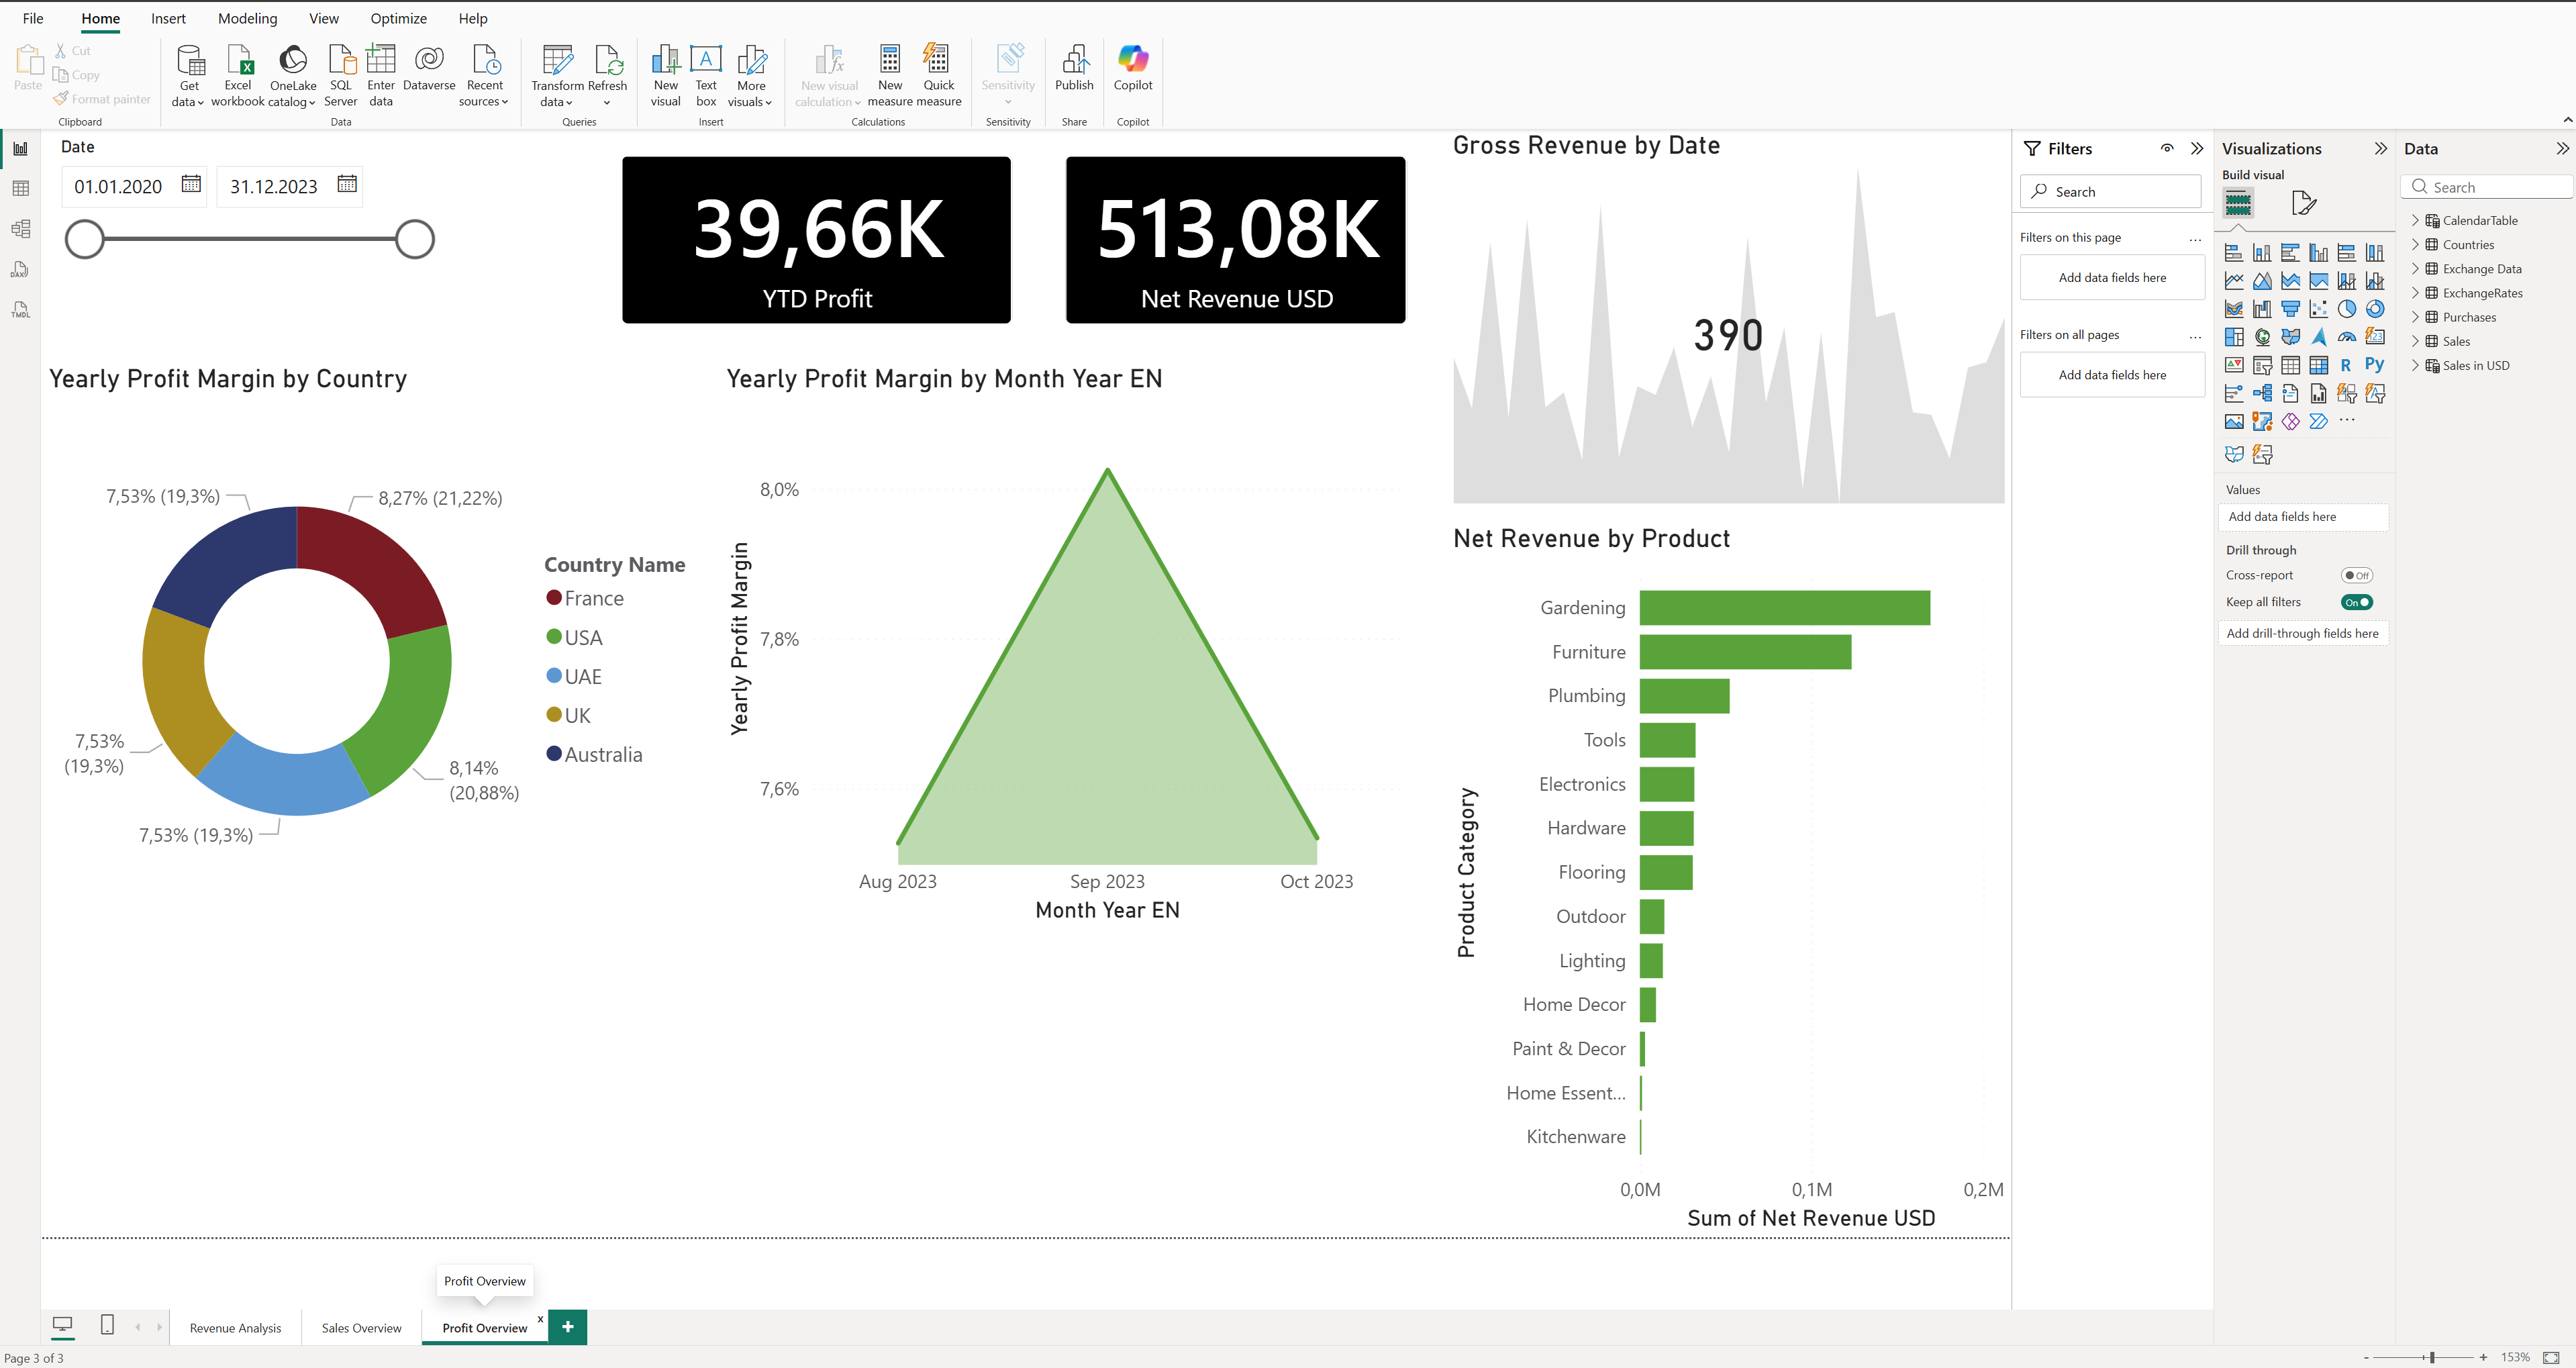

The page's visual inventory and layout, read from the dashboard file:
{"tool":"powerbi","page":{"name":"Profit Overview","canvas":[1280,720],"ordinal":3},"visuals":[{"type":"clusteredBarChart","title":"Net Revenue by Product","fields":{"Y":["Sum(Sales in USD.Net Revenue USD)"],"Category":["Sales in USD.Product Category"]},"box":[912,256,368,464],"z":0},{"type":"donutChart","title":"Yearly Profit Margin by Country","fields":{"Category":["Sales in USD.Country Name"],"Y":["Sales in USD.Yearly Profit Margin"]},"box":[0,152,440,368],"z":1000},{"type":"areaChart","fields":{"Y":["Sales in USD.Yearly Profit Margin"],"Category":["CalendarTable.Month Year EN"]},"box":[440,152,448,368],"z":2000},{"type":"cardVisual","fields":{"Data":["Sales in USD.YTD Profit"]},"box":[360,0,288,144],"z":3000},{"type":"cardVisual","fields":{"Data":["Sum(Sales in USD.Net Revenue USD)"]},"box":[648,0,256,144],"z":4000},{"type":"kpi","fields":{"Indicator":["Sum(Sales in USD.Gross Revenue)"],"TrendLine":["CalendarTable.Date"]},"box":[912,0,368,248],"z":5000},{"type":"slicer","fields":{"Values":["CalendarTable.Date"]},"box":[0,0,264,120],"z":6000}]}

Visuals, with their boxes on the page's 1280x720 design canvas (x1, y1, x2, y2). These are canvas units, not pixel positions in the 2576x1368 screenshot, which may show the page scaled, cropped or inside an application window:
"Net Revenue by Product" clusteredBarChart: 912:256:1280:720
"Yearly Profit Margin by Country" donutChart: 0:152:440:520
areaChart - Sales in USD.Yearly Profit Margin x CalendarTable.Month Year EN: 440:152:888:520
cardVisual - Sales in USD.YTD Profit: 360:0:648:144
cardVisual - Sum(Sales in USD.Net Revenue USD): 648:0:904:144
kpi - Sum(Sales in USD.Gross Revenue) x CalendarTable.Date: 912:0:1280:248
slicer - CalendarTable.Date: 0:0:264:120
